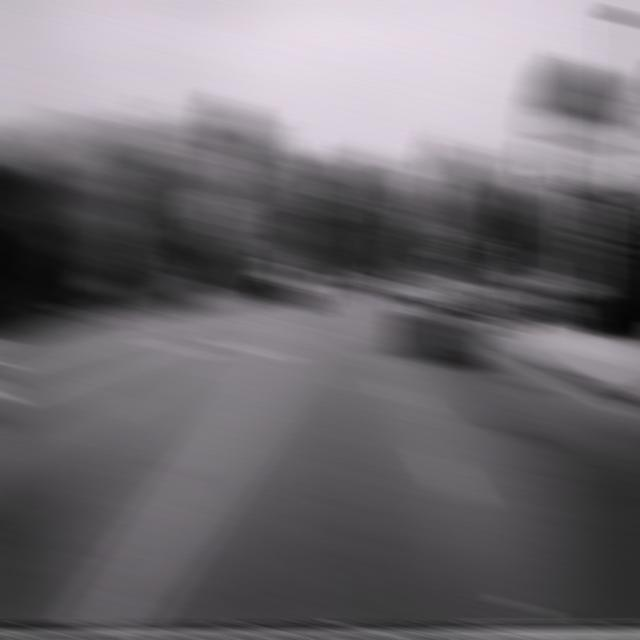speedLimit35: (575, 196, 614, 239)
